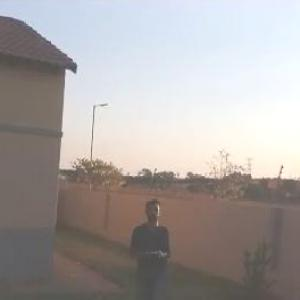follow: (124, 190, 181, 299)
